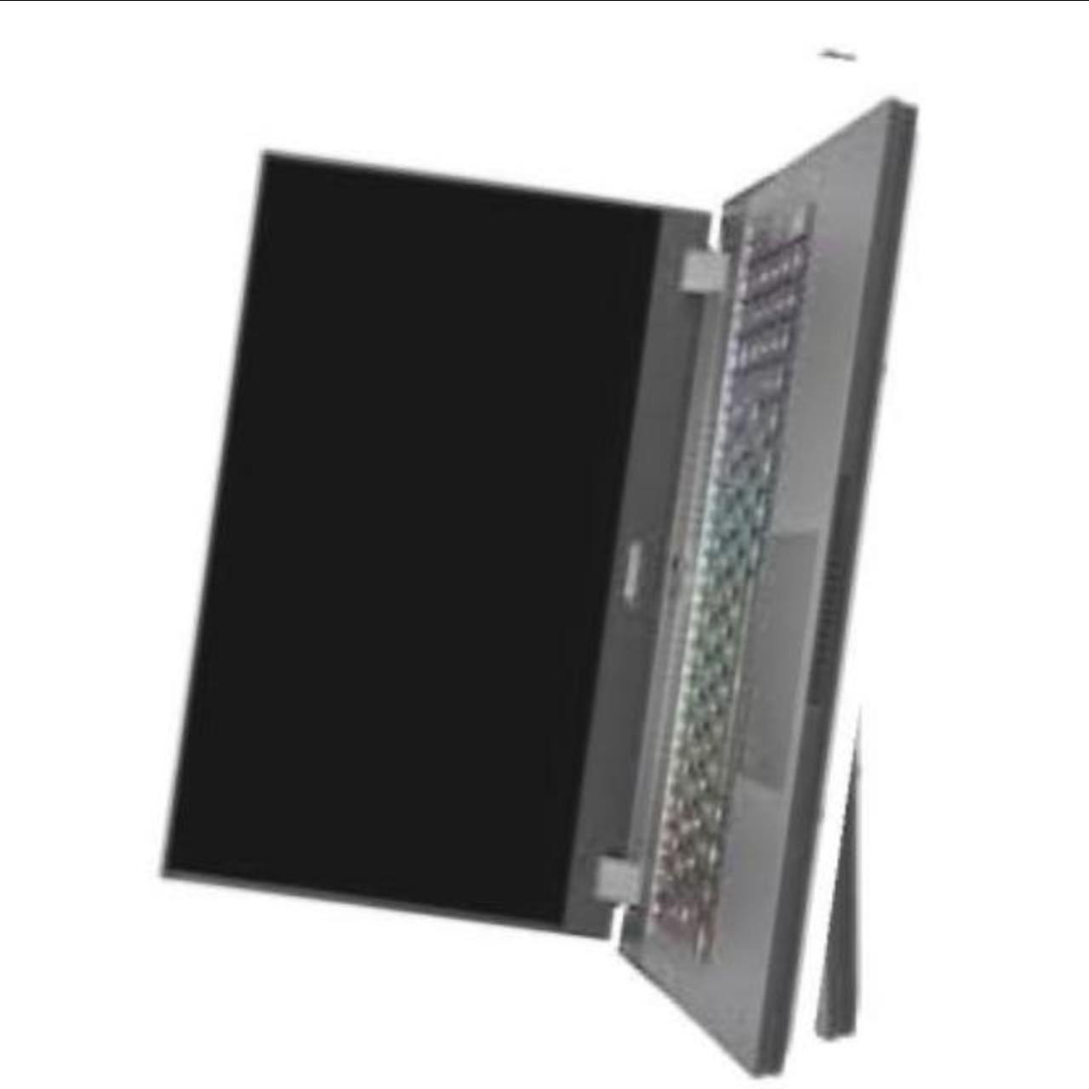laptop: (130, 1, 915, 1068)
